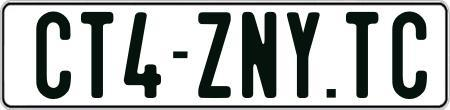4: (121, 11, 162, 102)
C: (389, 9, 427, 102), (33, 9, 70, 97)
N: (240, 9, 278, 96)
T: (345, 10, 378, 100), (81, 11, 113, 103)
Y: (285, 12, 320, 99)
Z: (197, 12, 230, 98)
